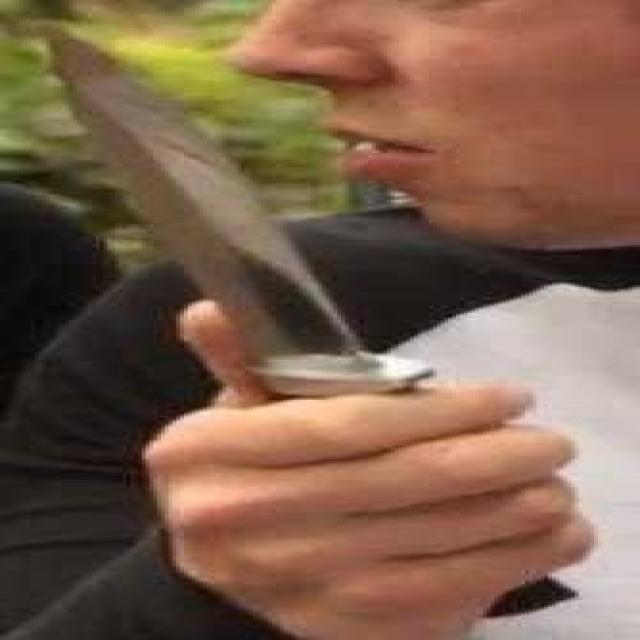Knife: (0, 18, 571, 618)
